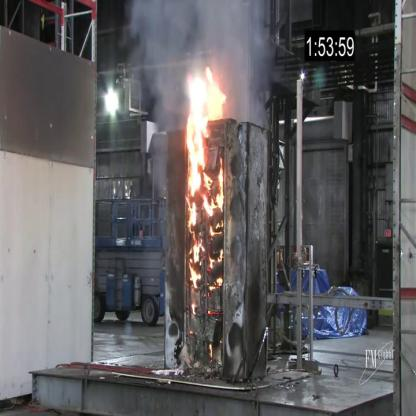fire: (184, 68, 226, 294), (190, 302, 197, 316)
